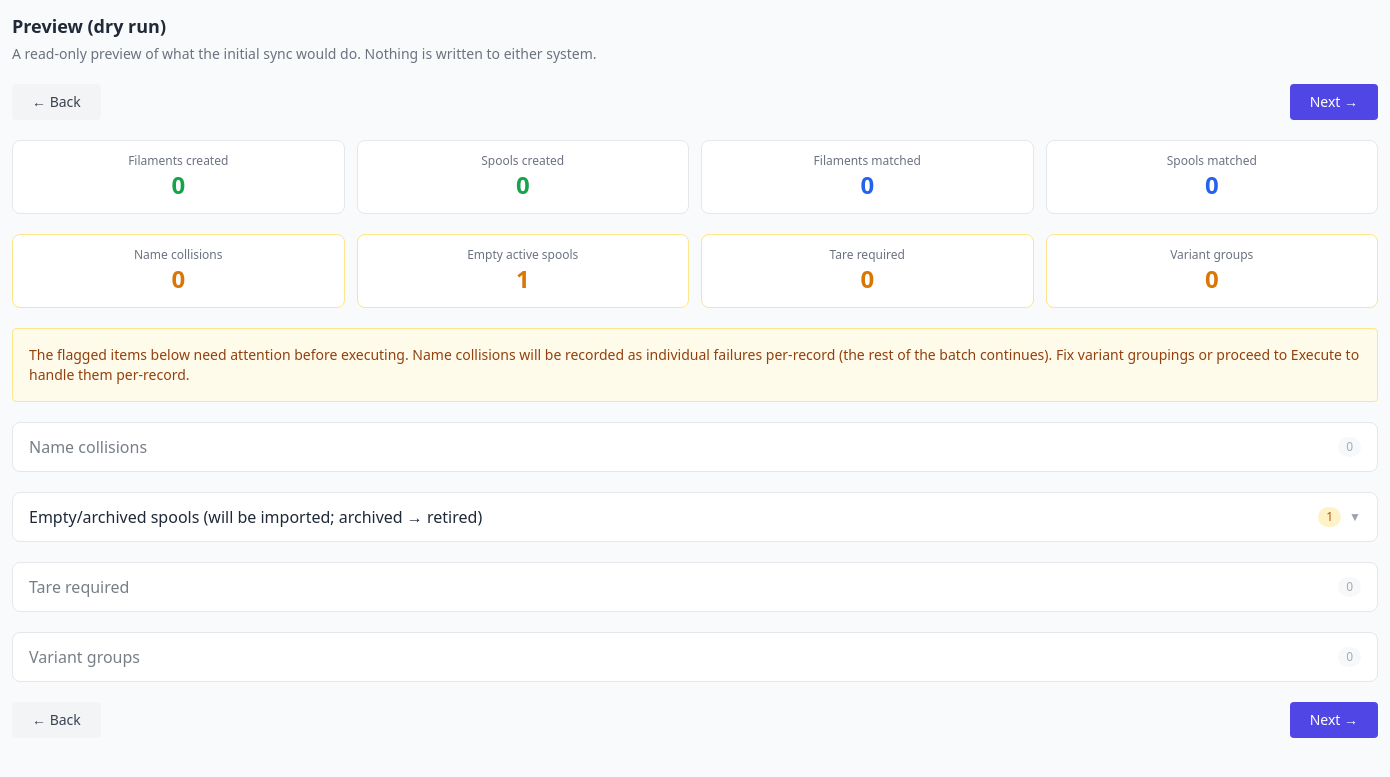
Test: StepNPreview — archived spool display › does NOT render "imports as retired" badge for active empty (archived=false) entry
This screenshot has width=1390, height=777.
Click the button "Empty/archived spools" at (256, 517), box [13,493,1377,541]
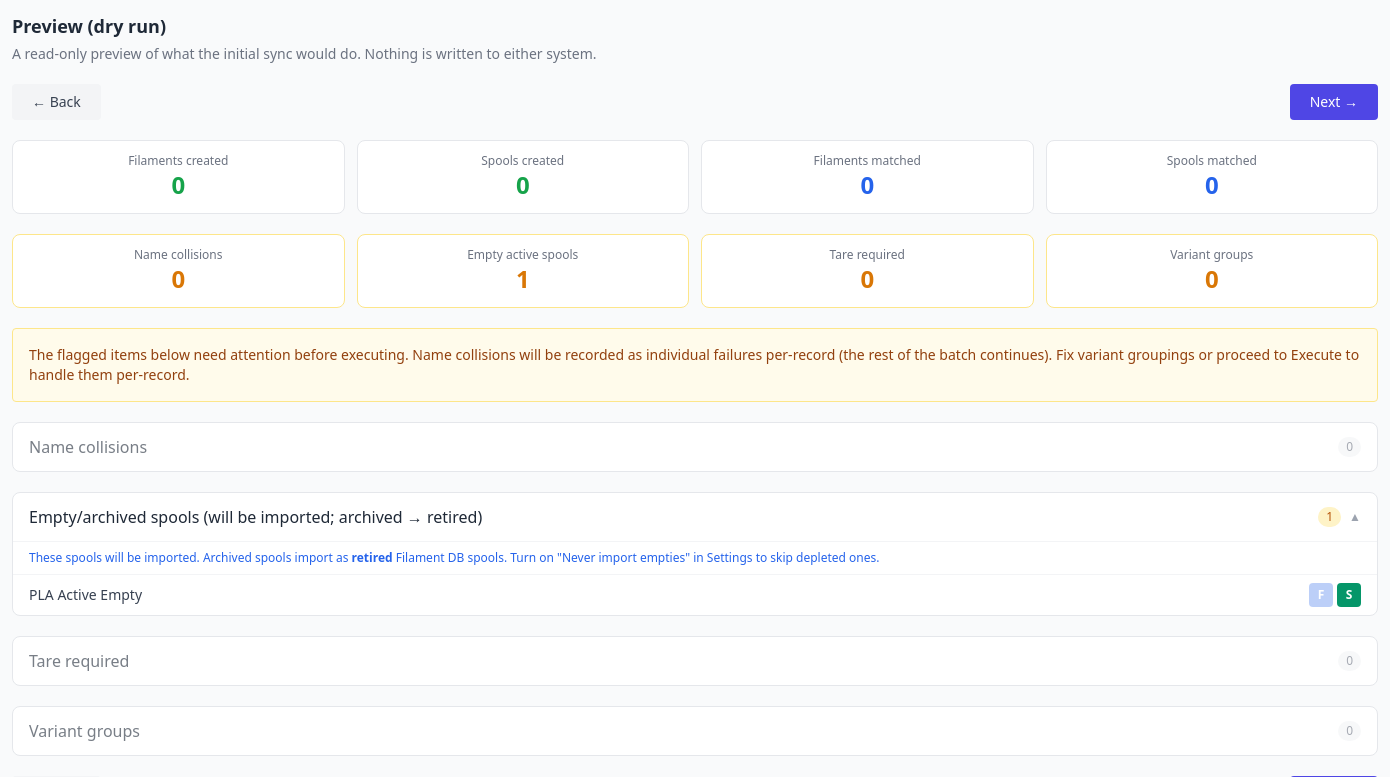
Expected: the text "PLA Active Empty" is shown, [29,585,142,605]
